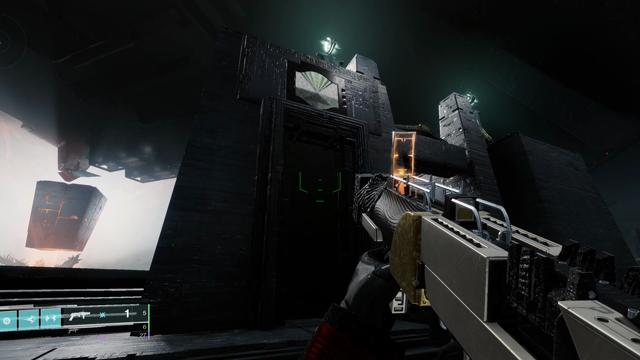commune: (295, 71, 339, 109)
